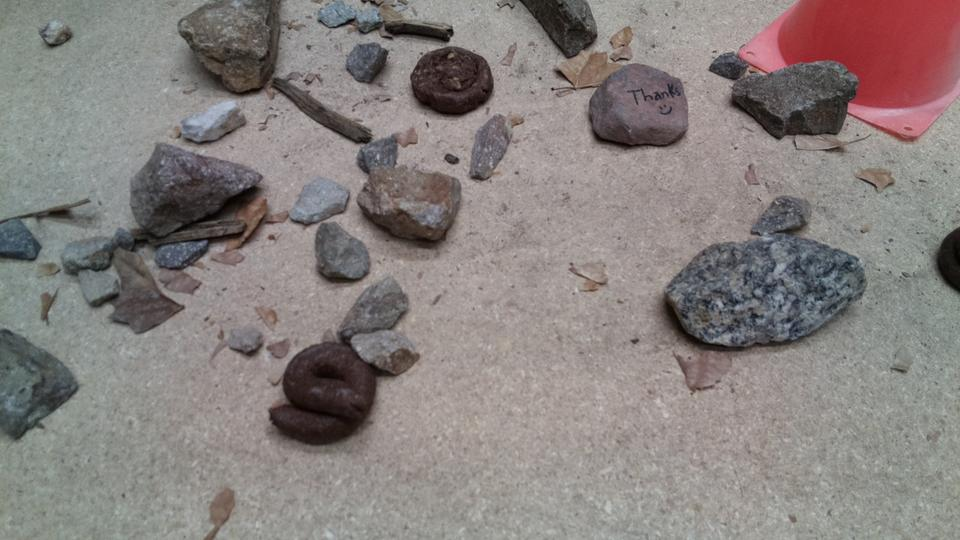poop: (268, 339, 377, 446), (409, 44, 495, 117), (934, 217, 960, 298)
